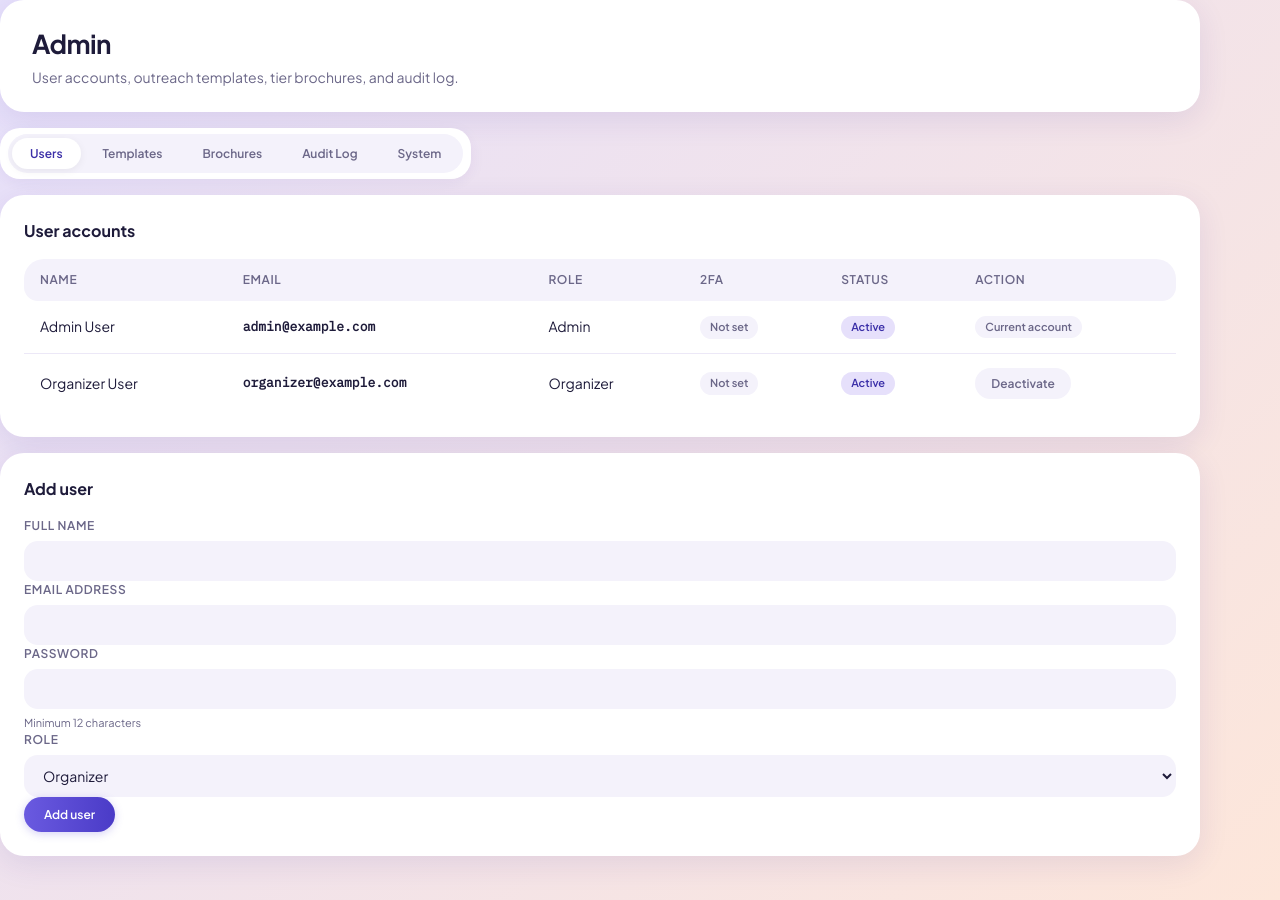
Admin page › switches to Brochures tab and shows brochure list and upload form
Step 1. Click the button "Brochures" → coordinates (232, 154), box [184, 138, 280, 169]
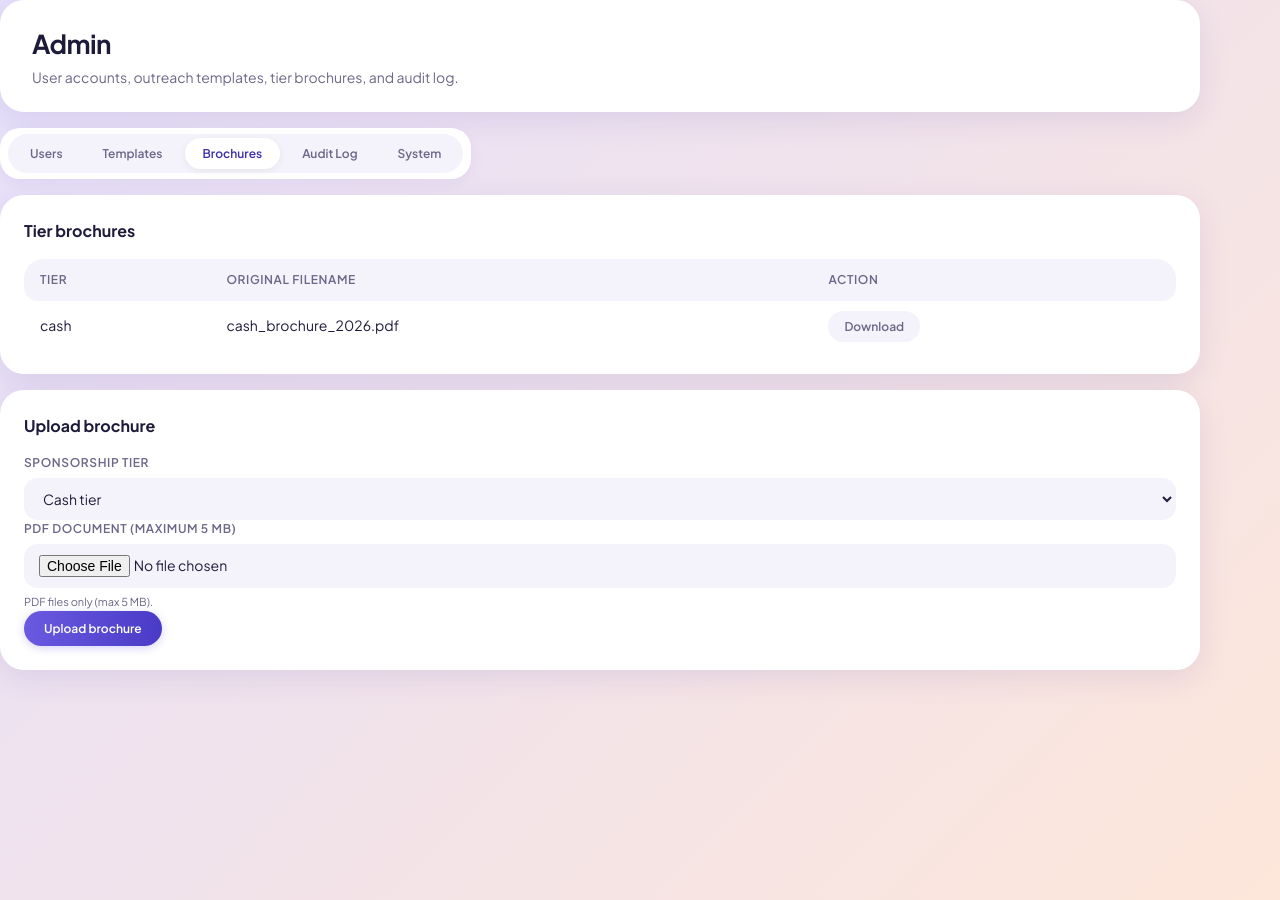
Now the text "cash_brochure_2026.pdf" is shown, box [210, 301, 812, 350]
Now the link "Download" is shown, box [828, 311, 920, 342]
Now the file field labelled "PDF Document (maximum 5 MB)" is shown, box [24, 544, 1176, 588]
